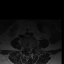CCS_normal: (28, 46, 30, 53)
LFS_stenosis: (32, 46, 34, 51)
LLS_normal: (30, 46, 32, 53)
RFS_normal: (24, 46, 26, 51)
RLS_normal: (27, 46, 28, 53)
